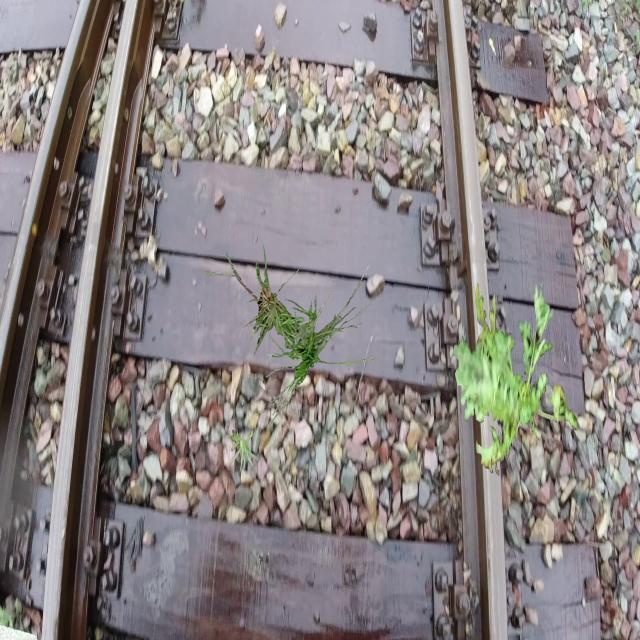Plant: (453, 280, 578, 476), (258, 264, 376, 428), (202, 241, 346, 360), (229, 429, 262, 475)
